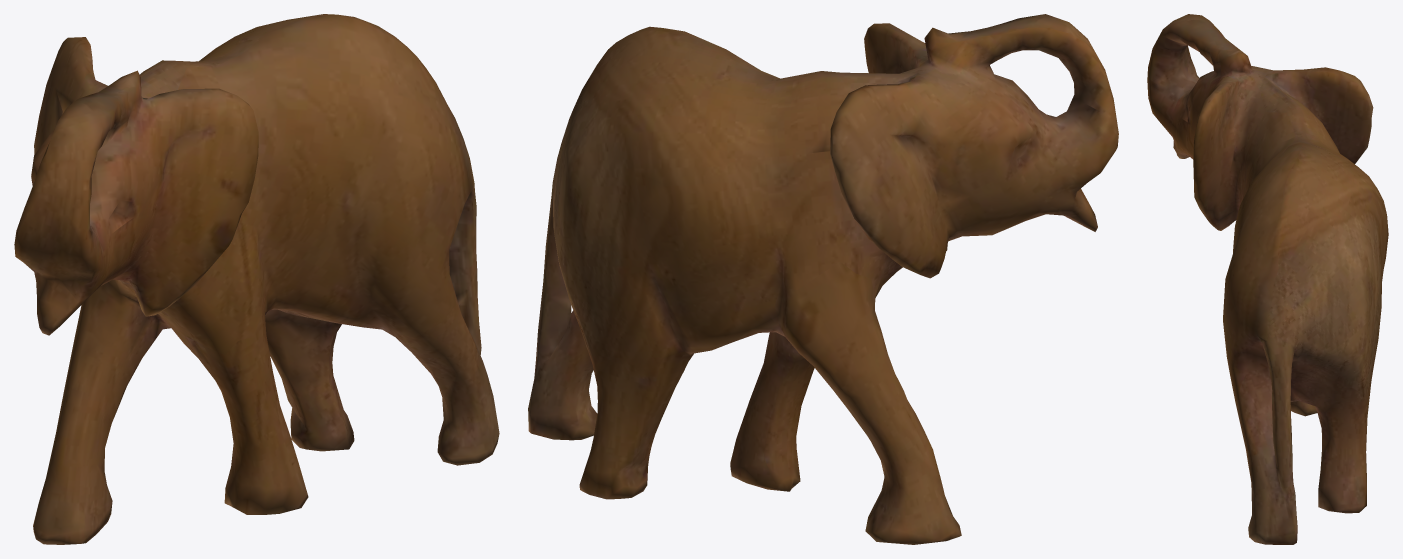
File: carved_wooden_elephant.gltf
The picture shows the model from 3 angles, left to right: view 1: azimuth 30°, elevation 25°; view 2: azimuth 150°, elevation 25°; view 3: azimuth 270°, elevation 25°; orthographic projection. The views are drawn at different scales.
Visible parts, largest first — view 1: carved_wooden_elephant; view 2: carved_wooden_elephant; view 3: carved_wooden_elephant.
Boxes of the visible parts, bbox=[...] form: carved_wooden_elephant: bbox=[14, 14, 499, 544]; carved_wooden_elephant: bbox=[528, 14, 1118, 544]; carved_wooden_elephant: bbox=[1147, 14, 1388, 544].
Size of the model in its own units: 0.1092 by 0.0962 by 0.0576.
Materials: 1 (1 with a texture image).
